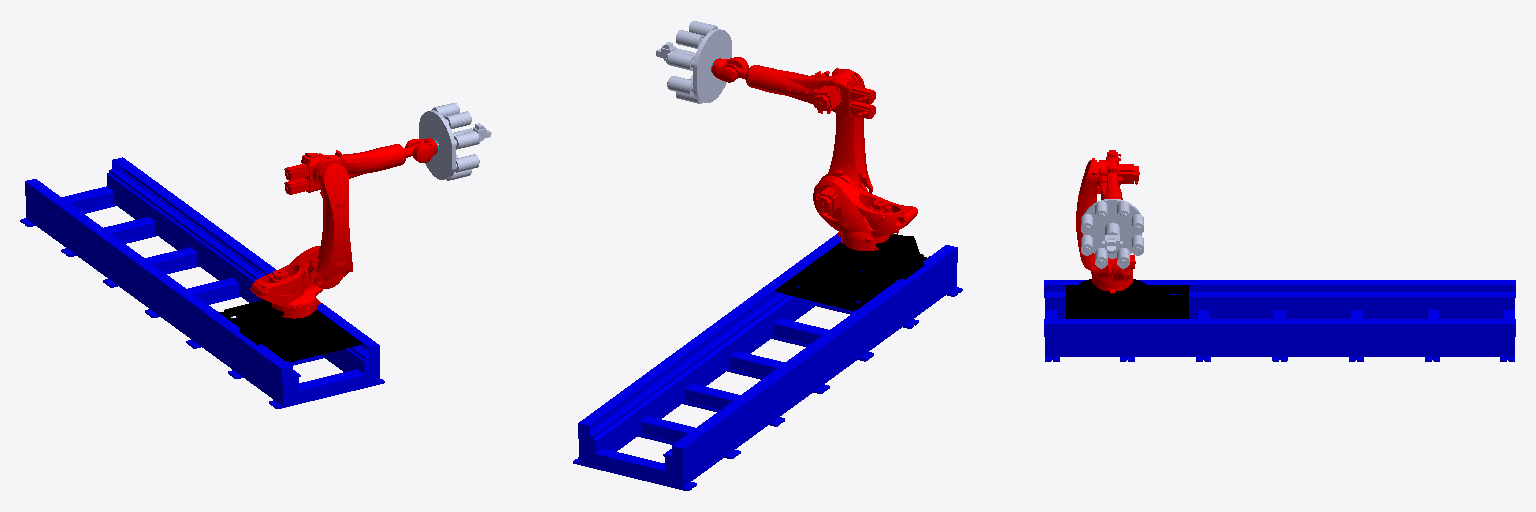
The robot description file, URDF, robot "kukarobotplusgui":
<?xml version="1.0" encoding="utf-8"?>
<!-- This URDF was automatically created by SolidWorks to URDF Exporter! Originally created by [author] ([email redacted]) 
     Commit Version: 1.6.0-1-g15f4949  Build Version: 1.6.7594.29634
     For more information, please see http://wiki.ros.org/sw_urdf_exporter -->
<robot
  name="kukarobotplusgui">
  <link
    name="base_link">
    <inertial>
      <origin
        xyz="-0.0043481 1.9746 -0.30442"
        rpy="0 0 0" />
      <mass
        value="880.86" />
      <inertia
        ixx="2383.7"
        ixy="1.296E-05"
        ixz="0.65575"
        iyy="204.79"
        iyz="1.6393E-05"
        izz="2571.6" />
    </inertial>
    <visual>
      <origin
        xyz="0 0 0"
        rpy="0 0 0" />
      <geometry>
        <mesh
          filename="package://kukarobotplusgui/meshes/base_link.STL" />
      </geometry>
      <material
        name="Blue">
        <color
          rgba="0 0 1 1" />
      </material>
    </visual>
    <collision>
      <origin
        xyz="0 0 0"
        rpy="0 0 0" />
      <geometry>
        <mesh
          filename="package://kukarobotplusgui/meshes/base_link.STL" />
      </geometry>
    </collision>
  </link>
  <link
    name="link0">
    <inertial>
      <origin
        xyz="-0.075731 0.046507 -0.076425"
        rpy="0 0 0" />
      <mass
        value="141.85" />
      <inertia
        ixx="13.672"
        ixy="0.3981"
        ixz="0.049005"
        iyy="25.231"
        iyz="-0.023494"
        izz="12.495" />
    </inertial>
    <visual>
      <origin
        xyz="0 0 0"
        rpy="0 0 0" />
      <geometry>
        <mesh
          filename="package://kukarobotplusgui/meshes/link0.STL" />
      </geometry>
      <material
        name="Black">
        <color
          rgba="0 0 0 1" />
      </material>
    </visual>
    <collision>
      <origin
        xyz="0 0 0"
        rpy="0 0 0" />
      <geometry>
        <mesh
          filename="package://kukarobotplusgui/meshes/link0.STL" />
      </geometry>
    </collision>
  </link>
  <joint
    name="joint0"
    type="prismatic">
    <origin
      xyz="0 0 0"
      rpy="1.5708 0 0" />
    <parent
      link="base_link" />
    <child
      link="link0" />
    <axis
      xyz="0 0 1" />
    <limit
      lower="-4000"
      upper="4000"
      effort="0"
      velocity="0" />
  </joint>
  <link
    name="link1">
    <inertial>
      <origin
        xyz="0.003882 0.01916 -0.19"
        rpy="0 0 0" />
      <mass
        value="88.977" />
      <inertia
        ixx="3.1934"
        ixy="-0.63734"
        ixz="-0.50662"
        iyy="6.3593"
        iyz="-0.25989"
        izz="5.3066" />
    </inertial>
    <visual>
      <origin
        xyz="0 0 0"
        rpy="0 0 0" />
      <geometry>
        <mesh
          filename="package://kukarobotplusgui/meshes/link1.STL" />
      </geometry>
      <material
        name="Red">
        <color
          rgba="1 0 0 1" />
      </material>
    </visual>
    <collision>
      <origin
        xyz="0 0 0"
        rpy="0 0 0" />
      <geometry>
        <mesh
          filename="package://kukarobotplusgui/meshes/link1.STL" />
      </geometry>
    </collision>
  </link>
  <joint
    name="joint1"
    type="revolute">
    <origin
      xyz="0 0.675 0"
      rpy="-1.5708 0 0" />
    <parent
      link="link0" />
    <child
      link="link1" />
    <axis
      xyz="0 0 -1" />
    <limit
      lower="-180"
      upper="180"
      effort="0"
      velocity="0" />
  </joint>
  <link
    name="link2">
    <inertial>
      <origin
        xyz="0.0030073 -0.43194 -0.23567"
        rpy="0 0 0" />
      <mass
        value="95.861" />
      <inertia
        ixx="15.982"
        ixy="0.0055049"
        ixz="-0.0048965"
        iyy="1.7586"
        iyz="-1.7556"
        izz="15.763" />
    </inertial>
    <visual>
      <origin
        xyz="0 0 0"
        rpy="0 0 0" />
      <geometry>
        <mesh
          filename="package://kukarobotplusgui/meshes/link2.STL" />
      </geometry>
      <material
        name="Red">
        <color
          rgba="1 0 0 1" />
      </material>
    </visual>
    <collision>
      <origin
        xyz="0 0 0"
        rpy="0 0 0" />
      <geometry>
        <mesh
          filename="package://kukarobotplusgui/meshes/link2.STL" />
      </geometry>
    </collision>
  </link>
  <joint
    name="joint2"
    type="revolute">
    <origin
      xyz="0.35 0 0"
      rpy="-1.5708 0 0" />
    <parent
      link="link1" />
    <child
      link="link2" />
    <axis
      xyz="0 0 -1" />
    <limit
      lower="-180"
      upper="180"
      effort="0"
      velocity="0" />
  </joint>
  <link
    name="link3">
    <inertial>
      <origin
        xyz="0.22582 0.024977 0.00024893"
        rpy="0 0 0" />
      <mass
        value="76.776" />
      <inertia
        ixx="1.0731"
        ixy="-0.221"
        ixz="0.1193"
        iyy="10.475"
        iyz="0.00051905"
        izz="10.381" />
    </inertial>
    <visual>
      <origin
        xyz="0 0 0"
        rpy="0 0 0" />
      <geometry>
        <mesh
          filename="package://kukarobotplusgui/meshes/link3.STL" />
      </geometry>
      <material
        name="Red">
        <color
          rgba="1 0 0 1" />
      </material>
    </visual>
    <collision>
      <origin
        xyz="0 0 0"
        rpy="0 0 0" />
      <geometry>
        <mesh
          filename="package://kukarobotplusgui/meshes/link3.STL" />
      </geometry>
    </collision>
  </link>
  <joint
    name="joint3"
    type="revolute">
    <origin
      xyz="0 -1.15 0"
      rpy="0 0 0" />
    <parent
      link="link2" />
    <child
      link="link3" />
    <axis
      xyz="0 0 1" />
    <limit
      lower="-180"
      upper="180"
      effort="0"
      velocity="0" />
  </joint>
  <link
    name="link4">
    <inertial>
      <origin
        xyz="3.6576E-06 0.00099016 -0.1567"
        rpy="0 0 0" />
      <mass
        value="4.7756" />
      <inertia
        ixx="0.05835"
        ixy="-5.5963E-08"
        ixz="-4.7946E-08"
        iyy="0.058855"
        iyz="-0.0009601"
        izz="0.02157" />
    </inertial>
    <visual>
      <origin
        xyz="0 0 0"
        rpy="0 0 0" />
      <geometry>
        <mesh
          filename="package://kukarobotplusgui/meshes/link4.STL" />
      </geometry>
      <material
        name="Red">
        <color
          rgba="1 0 0 1" />
      </material>
    </visual>
    <collision>
      <origin
        xyz="0 0 0"
        rpy="0 0 0" />
      <geometry>
        <mesh
          filename="package://kukarobotplusgui/meshes/link4.STL" />
      </geometry>
    </collision>
  </link>
  <joint
    name="joint4"
    type="revolute">
    <origin
      xyz="1.2 0.041 0"
      rpy="1.5708 0 1.5708" />
    <parent
      link="link3" />
    <child
      link="link4" />
    <axis
      xyz="0 0 -1" />
    <limit
      lower="-180"
      upper="180"
      effort="0"
      velocity="0" />
  </joint>
  <link
    name="link5">
    <inertial>
      <origin
        xyz="0.046709 5.6893E-05 0.023993"
        rpy="0 0 0" />
      <mass
        value="8.4718" />
      <inertia
        ixx="0.082597"
        ixy="-3.5691E-05"
        ixz="0.013291"
        iyy="0.11535"
        iyz="-3.332E-05"
        izz="0.068359" />
    </inertial>
    <visual>
      <origin
        xyz="0 0 0"
        rpy="0 0 0" />
      <geometry>
        <mesh
          filename="package://kukarobotplusgui/meshes/link5.STL" />
      </geometry>
      <material
        name="Red">
        <color
          rgba="1 0 0 1" />
      </material>
    </visual>
    <collision>
      <origin
        xyz="0 0 0"
        rpy="0 0 0" />
      <geometry>
        <mesh
          filename="package://kukarobotplusgui/meshes/link5.STL" />
      </geometry>
    </collision>
  </link>
  <joint
    name="joint5"
    type="revolute">
    <origin
      xyz="0 0 0"
      rpy="1.5708 -1.5708 0" />
    <parent
      link="link4" />
    <child
      link="link5" />
    <axis
      xyz="0 0 -1" />
    <limit
      lower="-180"
      upper="180"
      effort="0"
      velocity="0" />
  </joint>
  <link
    name="link6">
    <inertial>
      <origin
        xyz="0.00021621 -1.5923E-15 0.20042"
        rpy="0 0 0" />
      <mass
        value="0.36322" />
      <inertia
        ixx="0.00047945"
        ixy="-1.6754E-18"
        ixz="3.4593E-07"
        iyy="0.00048434"
        iyz="4.1816E-19"
        izz="0.00092366" />
    </inertial>
    <visual>
      <origin
        xyz="0 0 0"
        rpy="0 0 0" />
      <geometry>
        <mesh
          filename="package://kukarobotplusgui/meshes/link6.STL" />
      </geometry>
      <material
        name="Mcolor">
        <color
          rgba="0 0.81961 0.93333 1" />
      </material>
    </visual>
    <collision>
      <origin
        xyz="0 0 0"
        rpy="0 0 0" />
      <geometry>
        <mesh
          filename="package://kukarobotplusgui/meshes/link6.STL" />
      </geometry>
    </collision>
  </link>
  <joint
    name="joint6"
    type="revolute">
    <origin
      xyz="0 0 0"
      rpy="1.5708 0 1.5708" />
    <parent
      link="link5" />
    <child
      link="link6" />
    <axis
      xyz="0 0 -1" />
    <limit
      lower="-180"
      upper="180"
      effort="0"
      velocity="0" />
  </joint>
  <link
    name="gripper">
    <inertial>
      <origin
        xyz="0.00071882 0.00027127 -0.50239"
        rpy="0 0 0" />
      <mass
        value="72.796" />
      <inertia
        ixx="4.199"
        ixy="-0.00050907"
        ixz="-0.01984"
        iyy="4.3428"
        iyz="-0.0077866"
        izz="5.8692" />
    </inertial>
    <visual>
      <origin
        xyz="0 0 0"
        rpy="0 0 0" />
      <geometry>
        <mesh
          filename="package://kukarobotplusgui/meshes/gripper.STL" />
      </geometry>
      <material
        name="Grey">
        <color
          rgba="0.79216 0.81961 0.93333 1" />
      </material>
    </visual>
    <collision>
      <origin
        xyz="0 0 0"
        rpy="0 0 0" />
      <geometry>
        <mesh
          filename="package://kukarobotplusgui/meshes/gripper.STL" />
      </geometry>
    </collision>
  </link>
  <joint
    name="afp"
    type="fixed">
    <origin
      xyz="0 0 0.888"
      rpy="0 0 0" />
    <parent
      link="link6" />
    <child
      link="gripper" />
    <axis
      xyz="0 0 0" />
  </joint>
</robot>

--- What the picture shows (computed from the rendered views, not written in the file) ---
The picture shows the robot from 3 angles, left to right: view 1: azimuth 30°, elevation 25°; view 2: azimuth 150°, elevation 25°; view 3: azimuth 270°, elevation 25°; orthographic projection.
Robot: kukarobotplusgui — 9 links, 8 joints (6 revolute, 1 prismatic, 1 fixed); root link base_link; default pose: every joint at zero.
Links seen in each view (by area): view 1: base_link, link0, link2, gripper, link1, link3; view 2: base_link, link0, link1, link3, gripper, link2, link5; view 3: base_link, link0, gripper, link2, link3, link1.
Boxes of the visible links, bbox=[...] form: base_link: bbox=[20, 157, 384, 408]; link0: bbox=[217, 300, 362, 361]; link2: bbox=[308, 162, 352, 288]; gripper: bbox=[419, 103, 491, 180]; link1: bbox=[250, 246, 322, 318]; link3: bbox=[284, 145, 401, 194]; base_link: bbox=[573, 234, 962, 490]; link0: bbox=[775, 234, 929, 310]; link1: bbox=[813, 176, 917, 250]; link3: bbox=[751, 65, 875, 118]; gripper: bbox=[656, 21, 731, 103]; link2: bbox=[814, 68, 872, 193]; link5: bbox=[712, 57, 748, 82]; base_link: bbox=[1044, 280, 1515, 361]; link0: bbox=[1066, 279, 1188, 318]; gripper: bbox=[1081, 199, 1143, 268]; link2: bbox=[1076, 158, 1112, 278]; link3: bbox=[1097, 150, 1139, 199]; link1: bbox=[1091, 255, 1135, 293].
Size in the robot's own frame: 3.12 by 5.55 by 2.63 metres.
Meshes: 9 distinct files referenced, 9 mesh visuals loaded (9 binary STL).